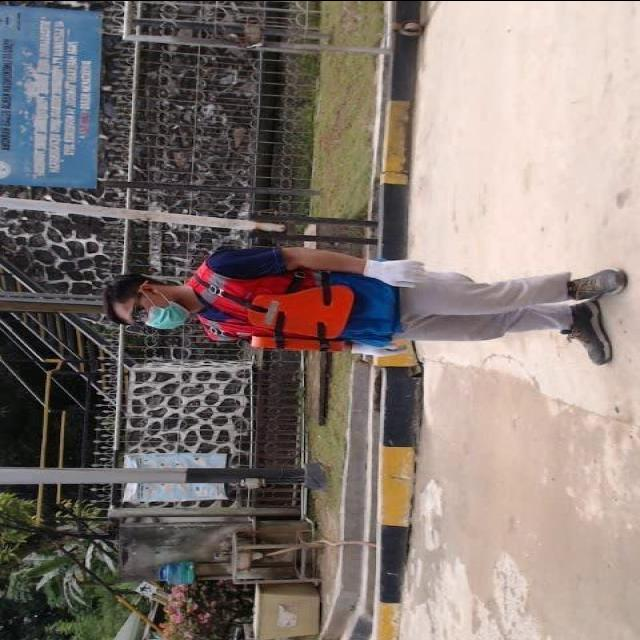jacket: (187, 242, 357, 364)
